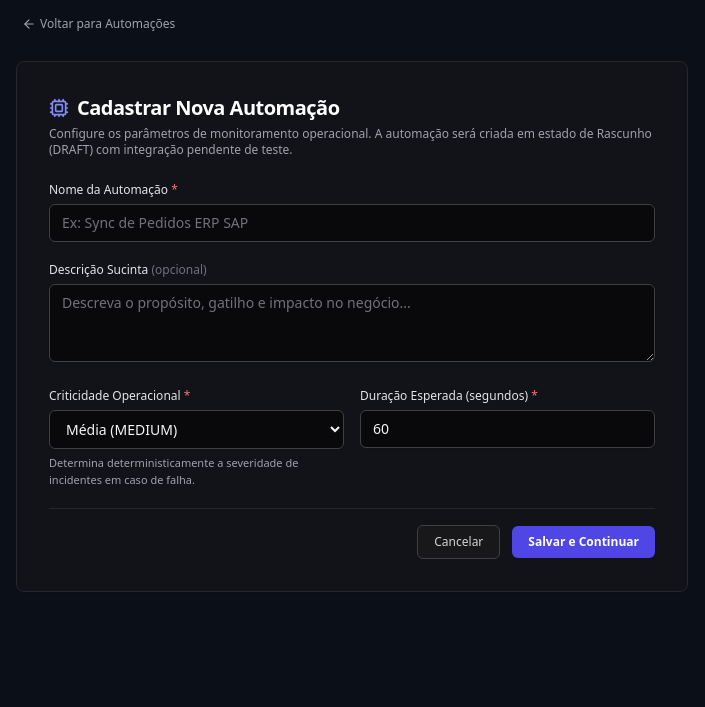
NewAutomationPage › should show API error feedback if creation fails
Type "Duplicate Pipeline" into the field with test id "automation-name-input" at coordinates (352, 223), box [49,204,655,242]
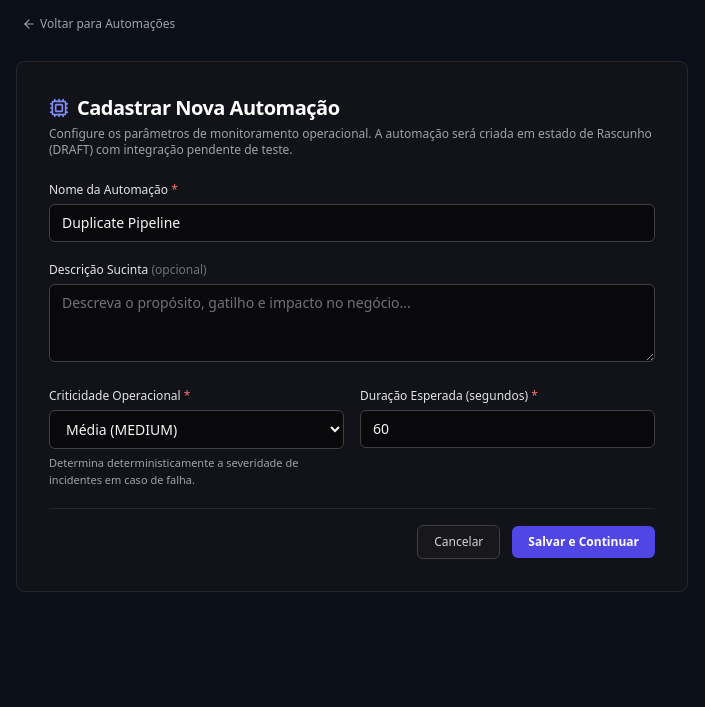
Click the button with test id "submit-automation-button" at coordinates (584, 542), box [512,526,655,558]
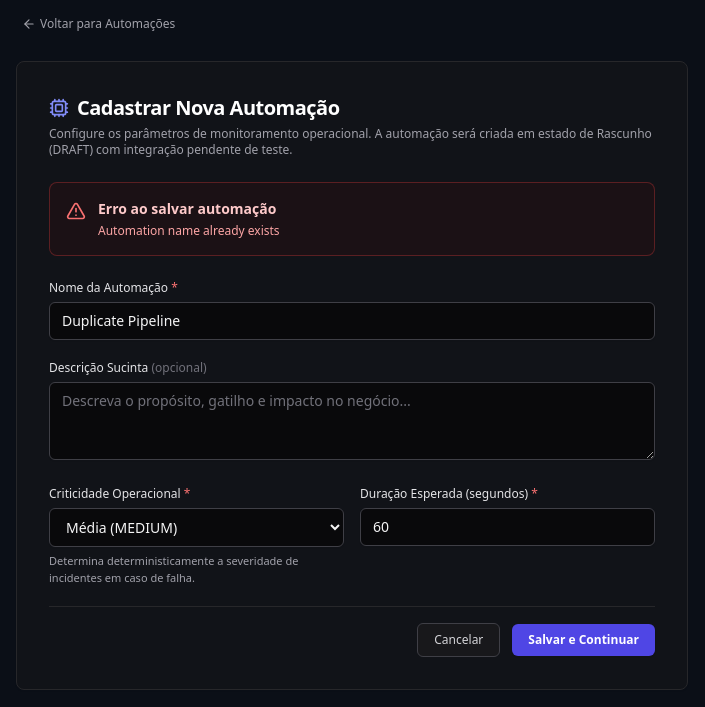
Result: the message "Erro ao salvar automação Automation name already exists" is shown at [49,182,655,256]
Result: the text "Automation name already exists" is shown at [98,223,280,239]
